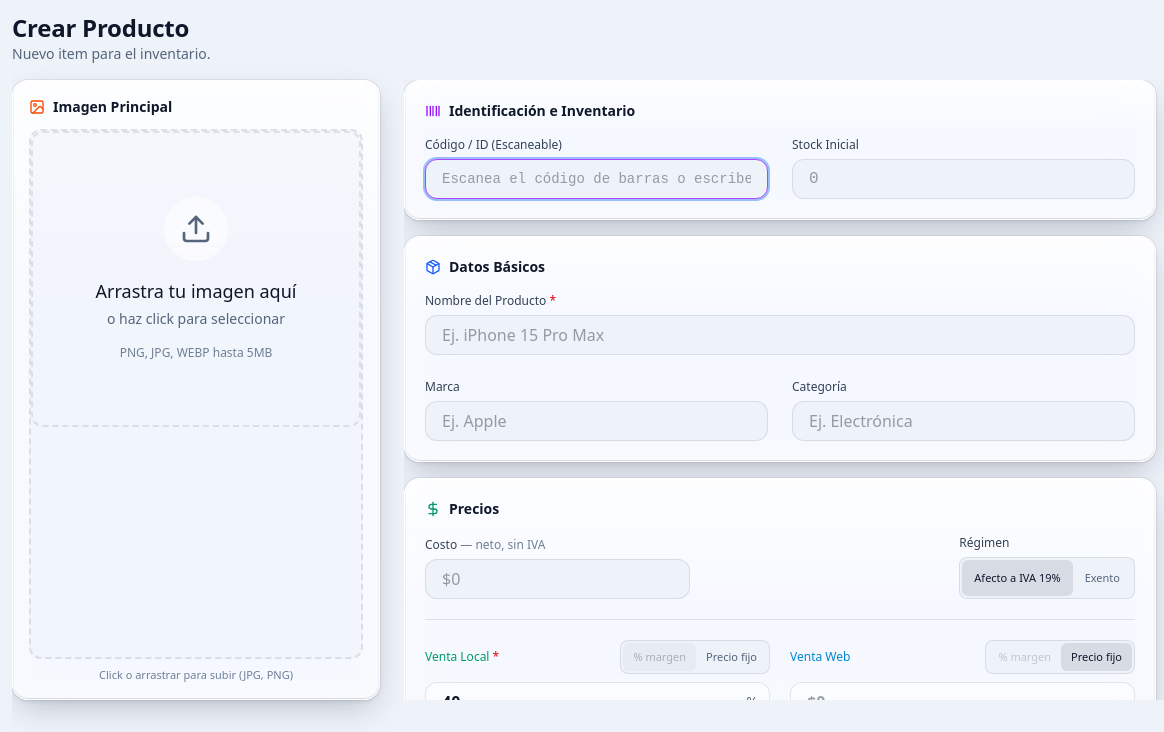
Test: Crear producto › el costo alimenta la fórmula fija y el precio de venta por margen (40%)
Type "1000" into the field with placeholder "$0" below "Costo".
click(558, 579); type("1000")  # box [425,559,690,599]
(page scrolled)
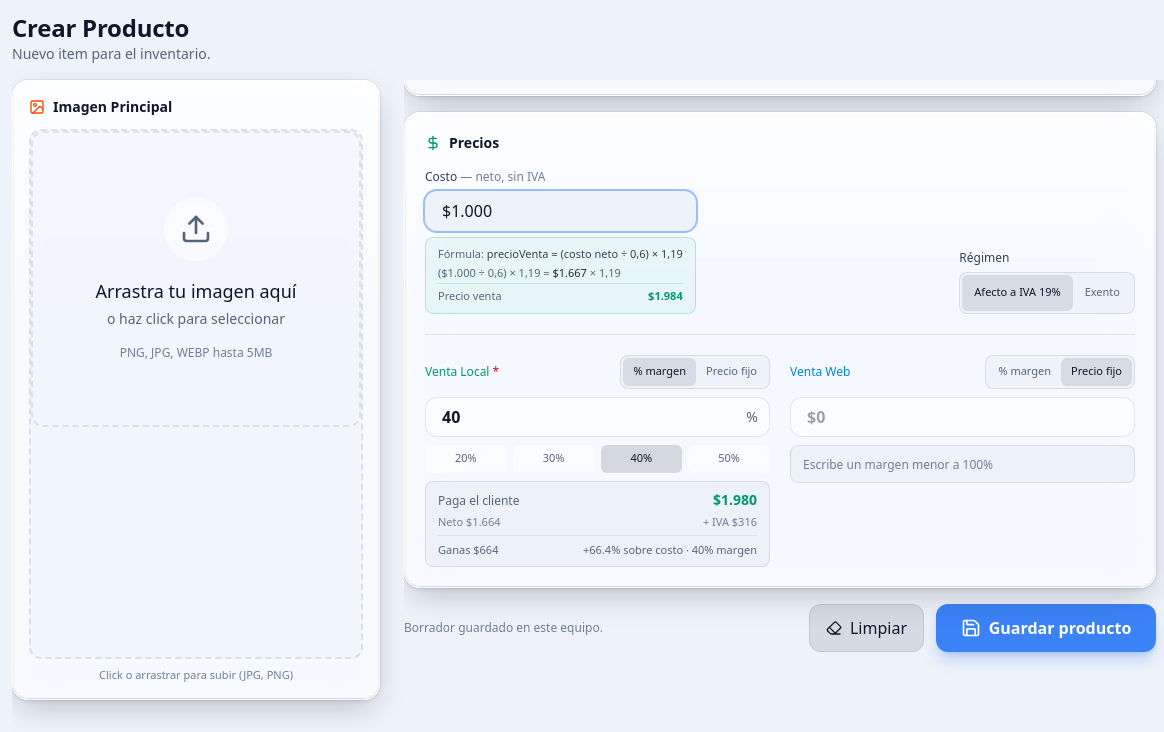
Expected: the text "precioVenta = (costo neto ÷ 0,6) × 1,19" is shown, [487,246,683,261]
Expected: the text "$1.984" is shown, [648,288,683,304]
Expected: the text "$1.980" is shown, [713,490,757,510]
